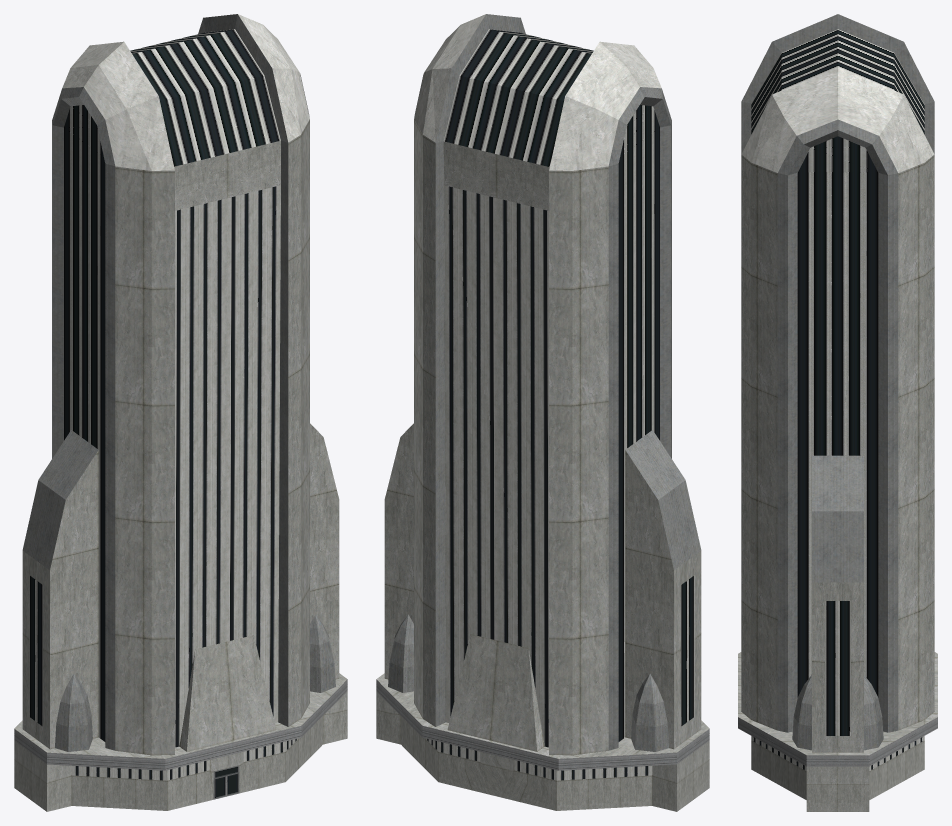
The model's file is thm_corl_skyskraper_s03_r0_mesh_l2.fbx.
3 views of the same model, side by side, from view 1: azimuth 30°, elevation 25°; view 2: azimuth 150°, elevation 25°; view 3: azimuth 270°, elevation 25° (orthographic). The views are drawn at different scales.
Visible parts, largest first — view 1: mesh_node; view 2: mesh_node; view 3: mesh_node.
Boxes of the visible parts, x1,y1,x2,y2 form: mesh_node: [14, 14, 347, 811]; mesh_node: [376, 14, 709, 811]; mesh_node: [738, 14, 937, 811].
Bounding box in the file's own units: 60.95 × 142 × 36.8.
